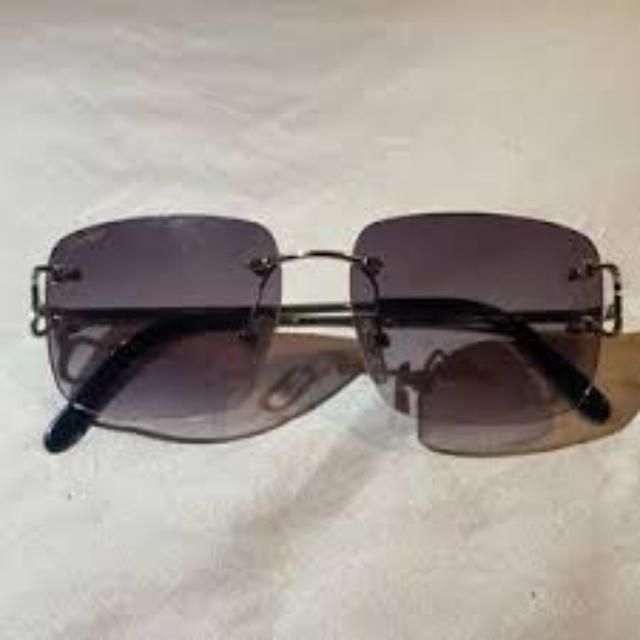glasses: (29, 213, 626, 454)
